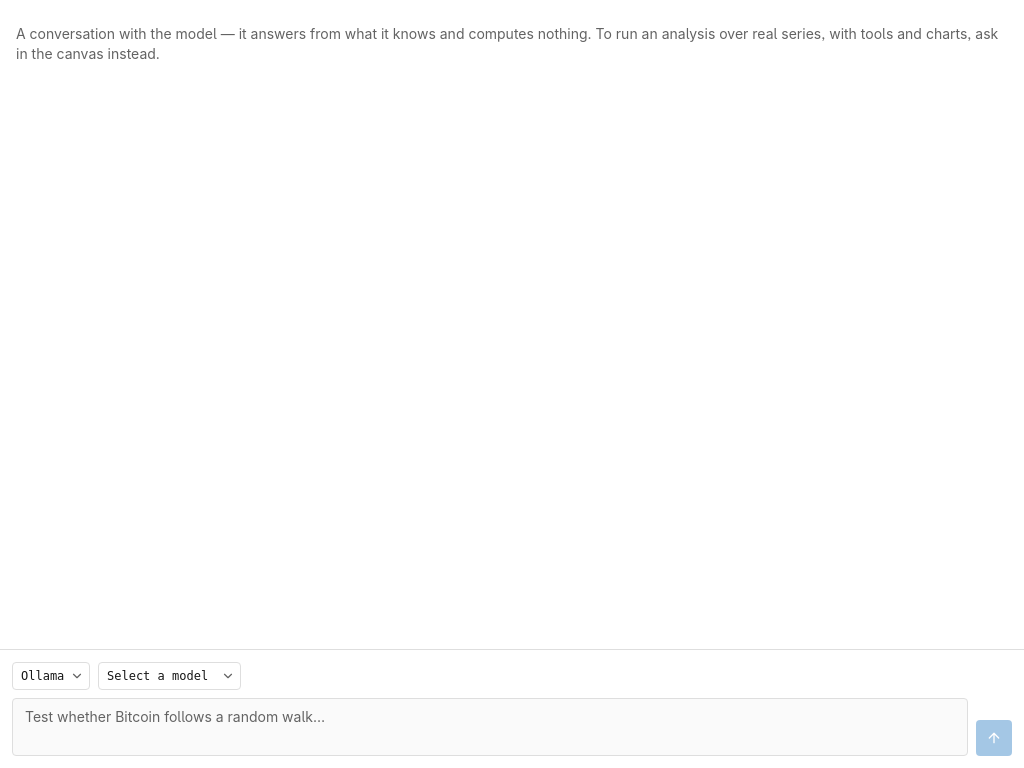
Scenario: Conversation › cannot send until a model is chosen
Type "hello" into the text box named "Message" at (490, 727), box [12, 698, 968, 756]
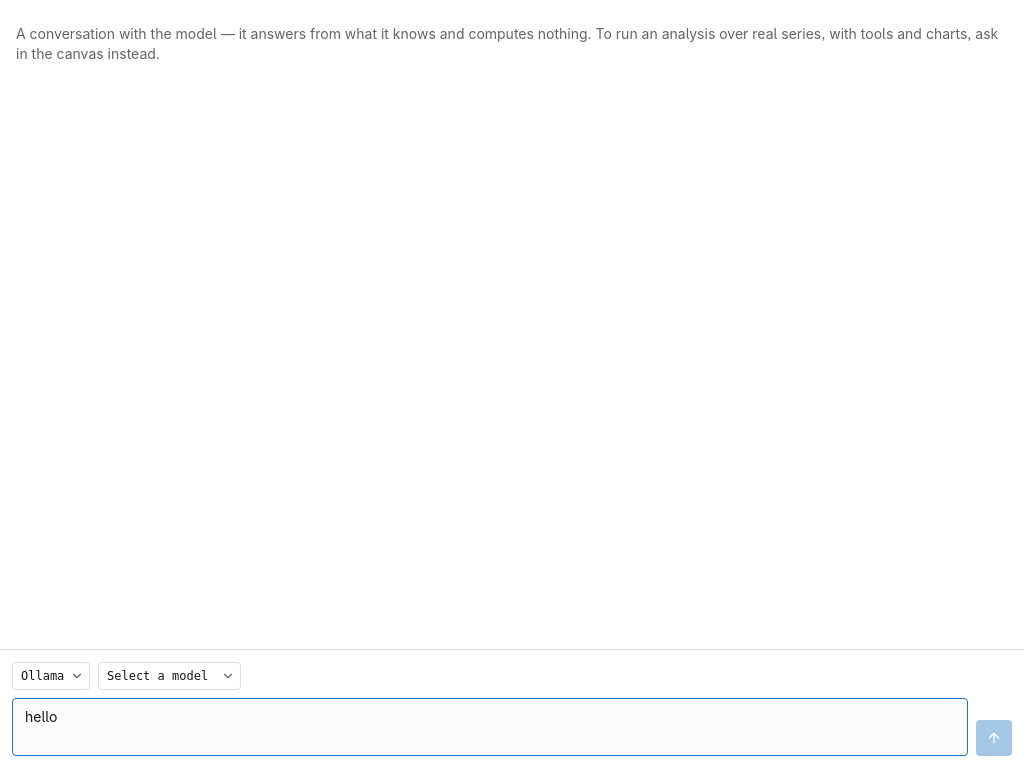
Expected: the button named "Send message" is disabled, [976, 720, 1012, 756]
Select "llama3.2:latest" in the dropdown named "Model" at (170, 676), box [98, 662, 241, 690]
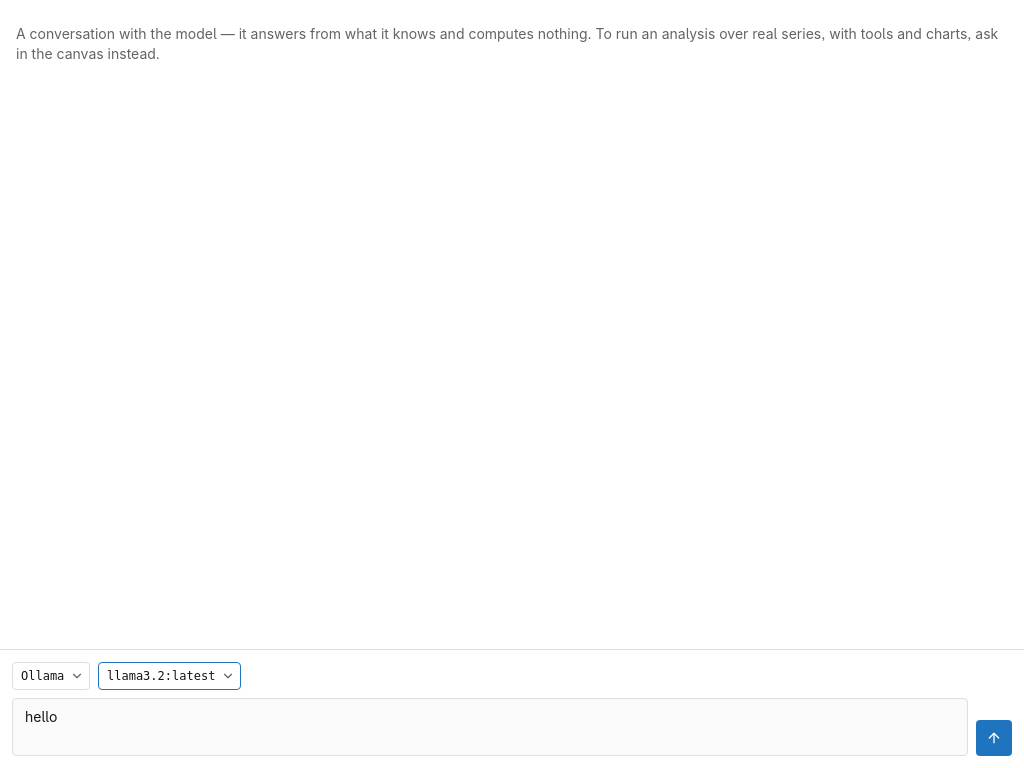
Result: the button named "Send message" is enabled at [976, 720, 1012, 756]
